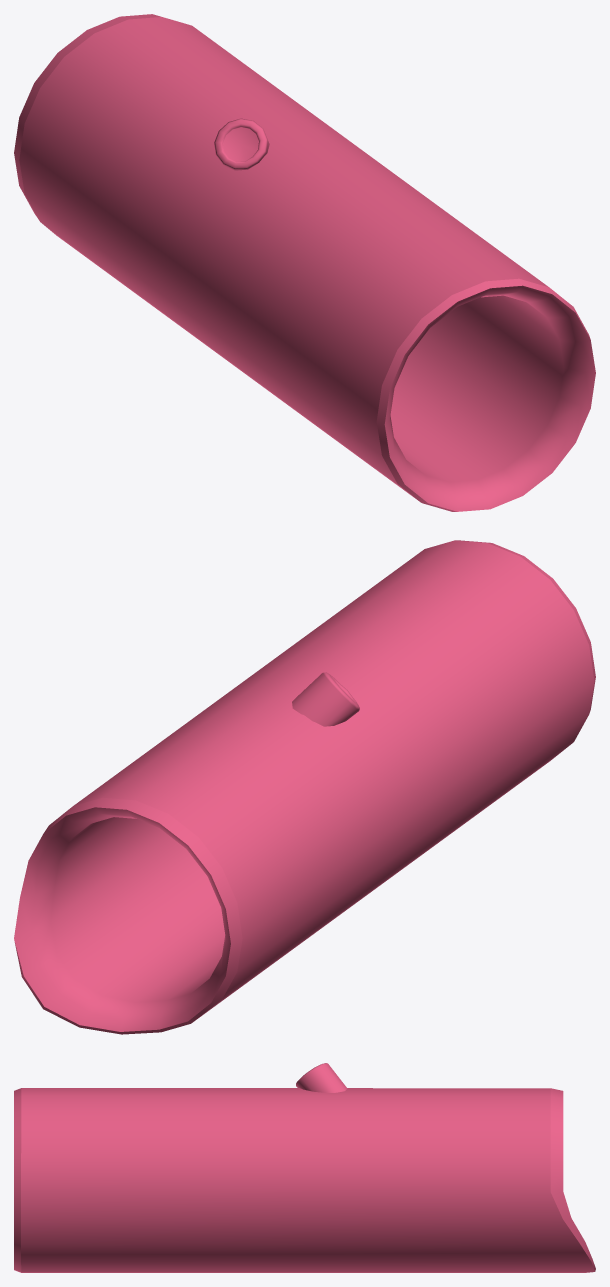
Rendered from Log_1.fbx.
3 views of the same model, one above another, from view 1: azimuth 30°, elevation 25°; view 2: azimuth 150°, elevation 25°; view 3: azimuth 270°, elevation 25° (orthographic). The views are drawn at different scales.
Parts seen in each view (by area): view 1: log_1_low; view 2: log_1_low; view 3: log_1_low.
Part boxes in pixels (x1,y1,x2,y2): log_1_low: [14, 14, 595, 511]; log_1_low: [14, 540, 595, 1034]; log_1_low: [14, 1063, 595, 1272].
Bounding box in the file's own units: 0.2966 × 0.3267 × 0.9272.
